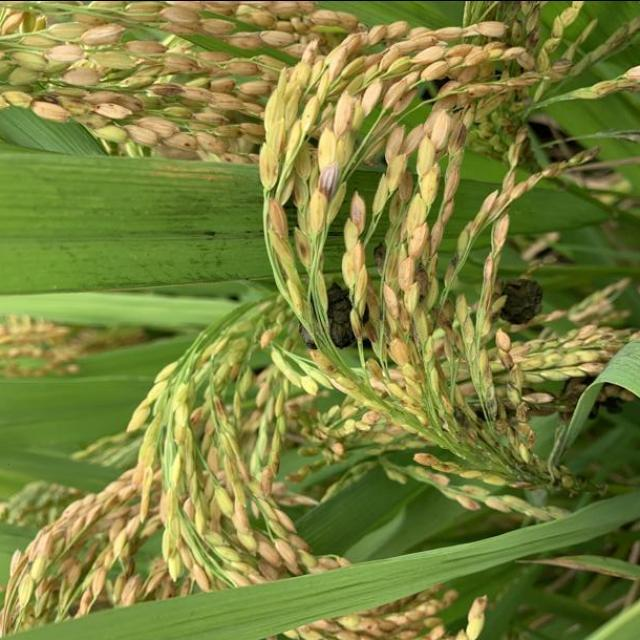Leaf_Scald: (296, 279, 362, 357), (484, 268, 546, 332)
